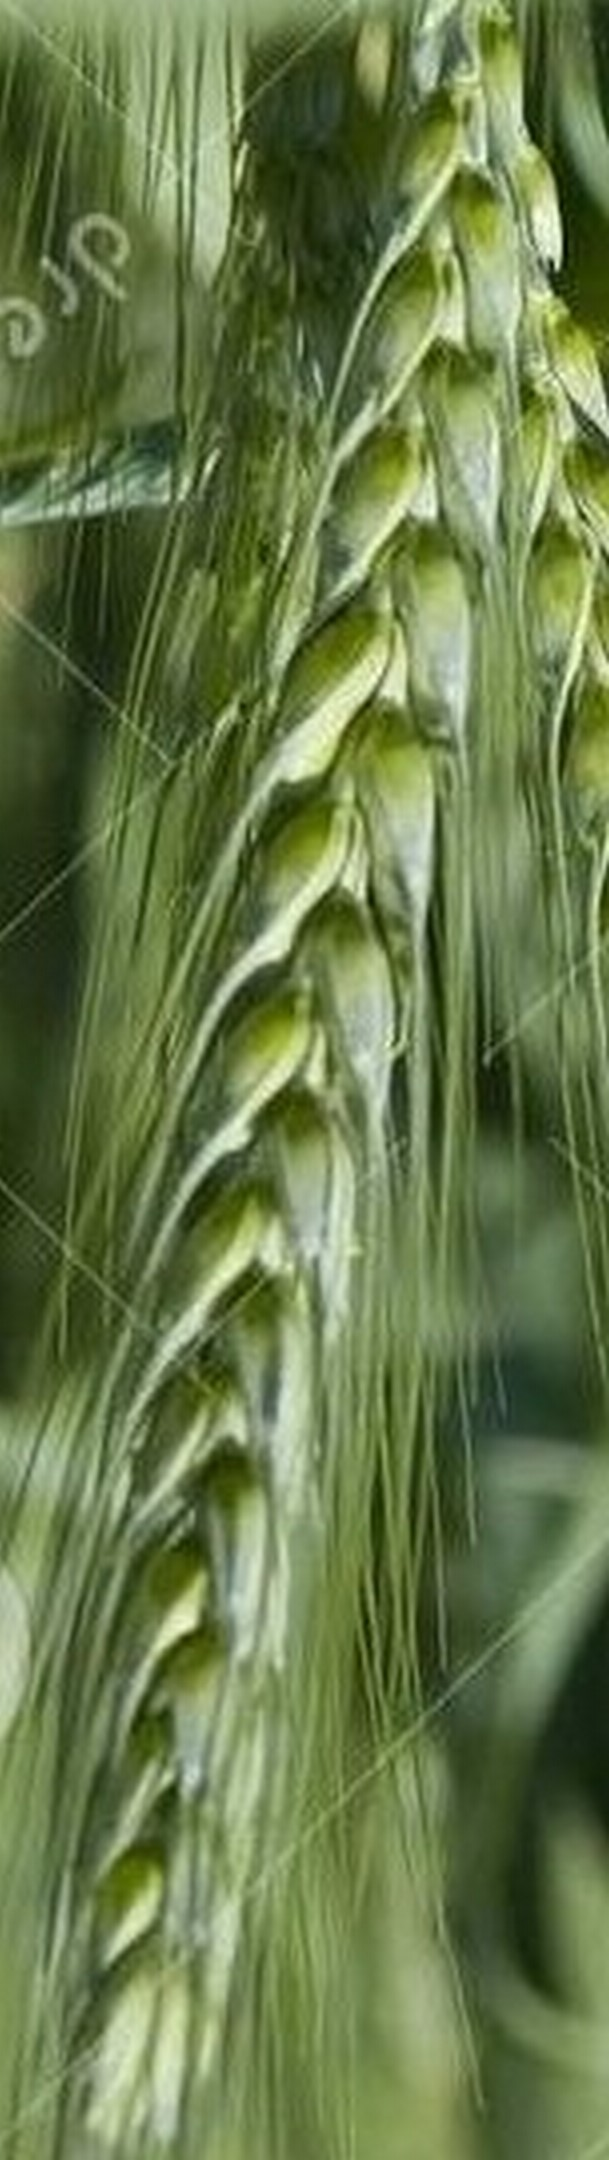Healthy Wheat: (43, 94, 553, 1989)
